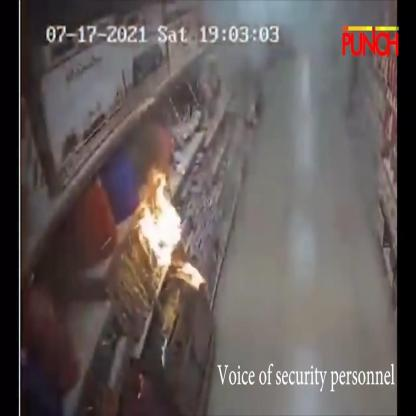fire: (135, 172, 181, 266), (171, 258, 205, 290)
